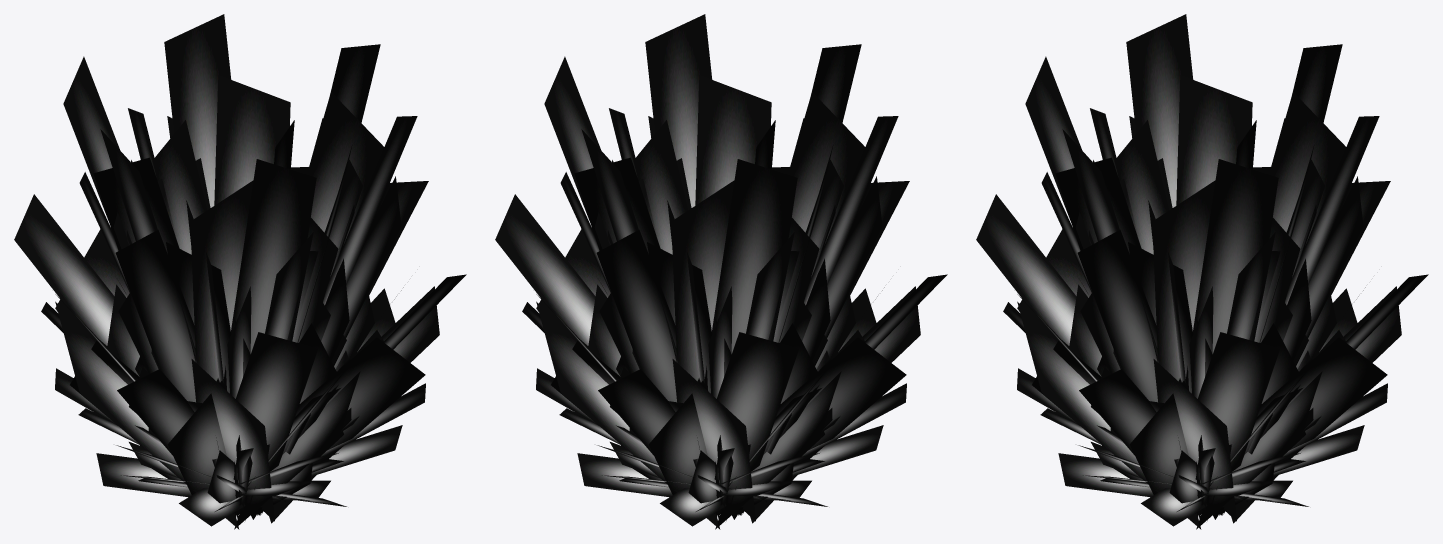
The model's file is vfx_kurp_0122.dae.
3 renders of one model, left to right at view 1: azimuth 30°, elevation 25°; view 2: azimuth 150°, elevation 25°; view 3: azimuth 270°, elevation 25°, orthographic.
Visible parts, largest first — view 1: vfx_kurp_0122; view 2: vfx_kurp_0122; view 3: vfx_kurp_0122.
Boxes of the visible parts, left/top/right/bottom form: vfx_kurp_0122: left=14, top=14, right=466, bottom=529; vfx_kurp_0122: left=495, top=14, right=947, bottom=529; vfx_kurp_0122: left=976, top=14, right=1428, bottom=529.
Bounding box in the file's own units: 8.41 × 8.35 × 8.72.
1 material, 1 textured.
